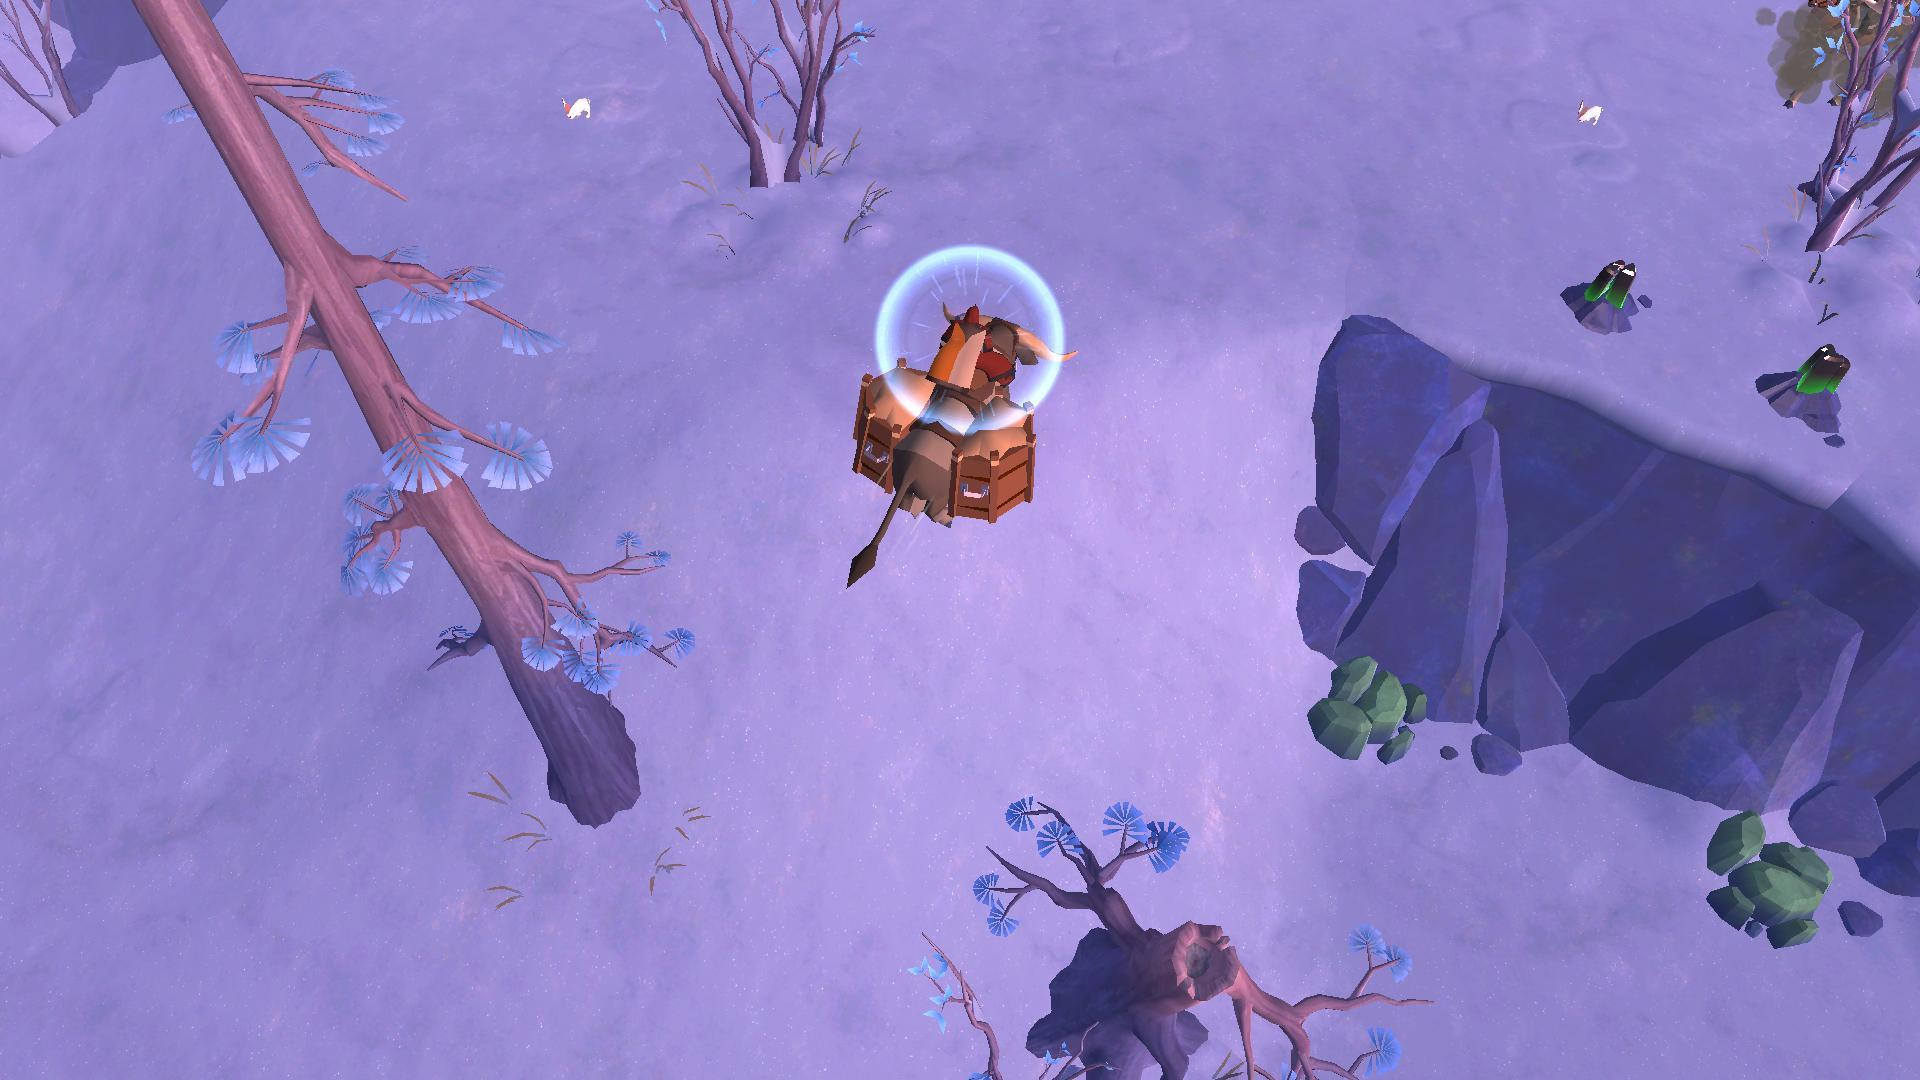ore_t3: (1575, 248, 1644, 311), (1788, 339, 1853, 400)
rock_t3: (1685, 802, 1840, 955), (1288, 641, 1436, 773)
